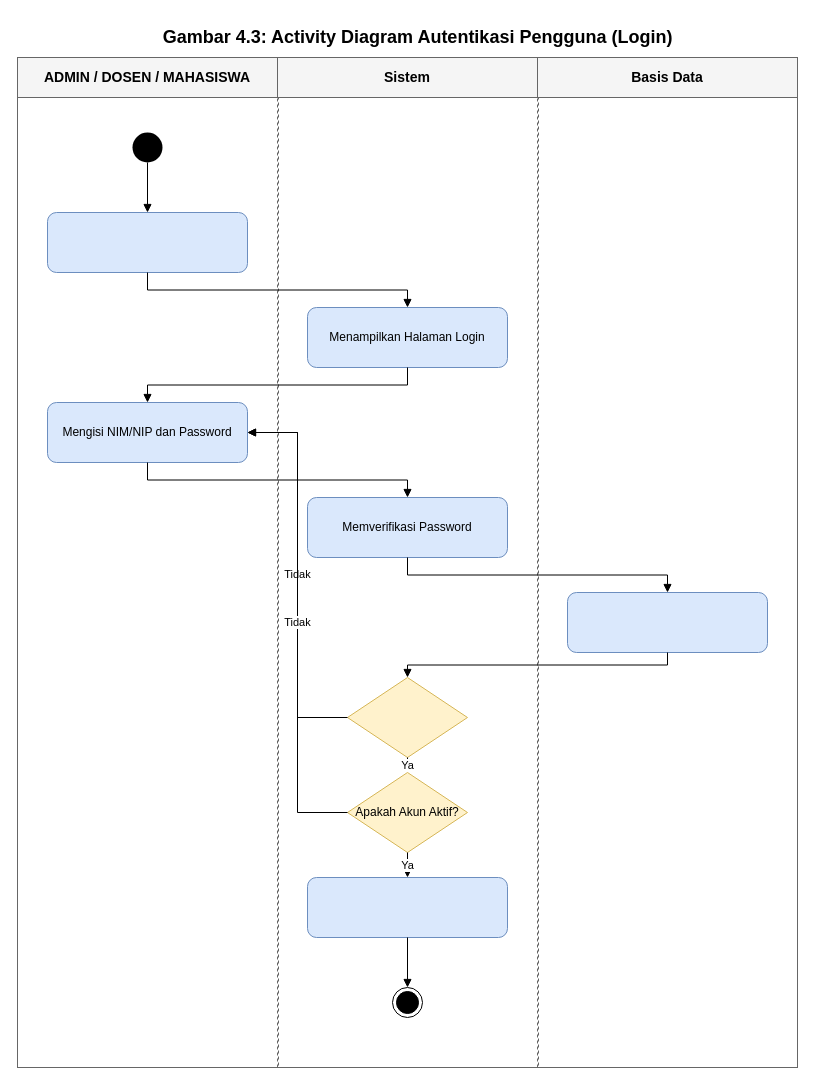
The diagram is 815 pixels wide and 1085 high, and some of its shapes have lost their labels. Here are the shapes that lost their labels. From the top down, the centre of each, then its label:
(147,242): Membuka Website SIMTA
(667,622): Mencari Data Pengguna
(407,717): Apakah Password Cocok?
(407,907): Menampilkan Dashboard Sesuai Peran
